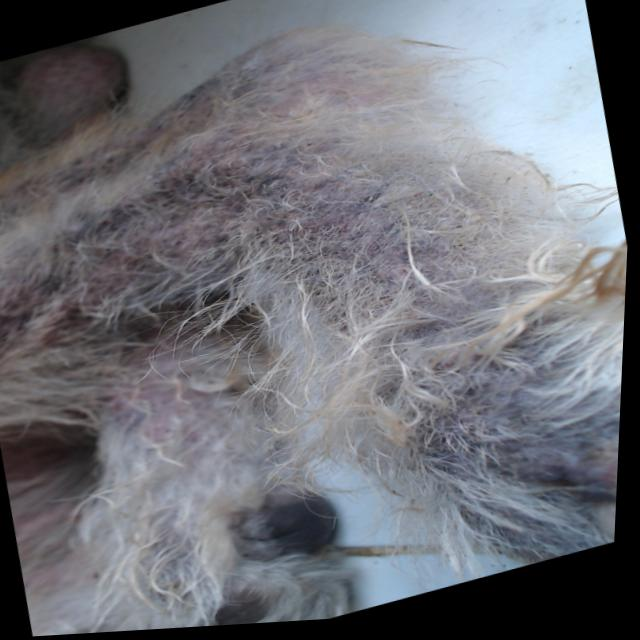demodicosis: (190, 74, 500, 364), (451, 385, 574, 523), (45, 208, 183, 314)
